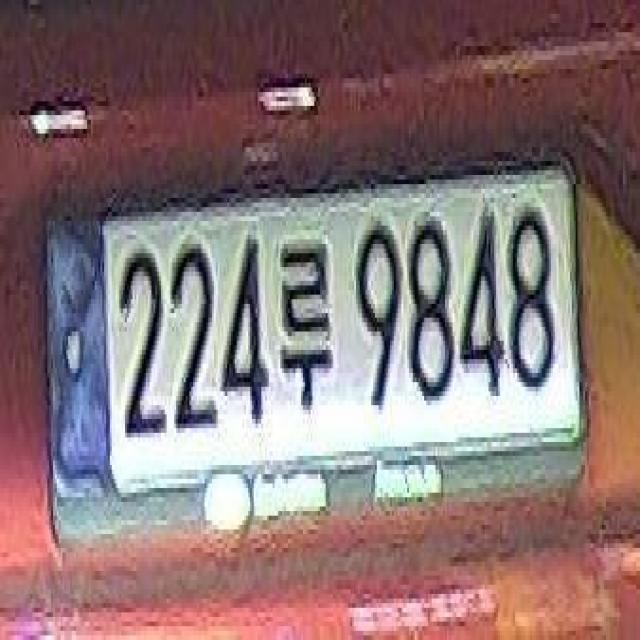illegal_plate: (46, 164, 586, 528)
